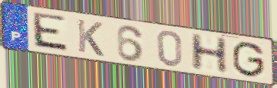0: (155, 30, 184, 68)
6: (115, 24, 145, 63)
E: (31, 11, 71, 54)
G: (231, 41, 267, 80)
H: (188, 32, 231, 75)
K: (75, 17, 106, 58)
